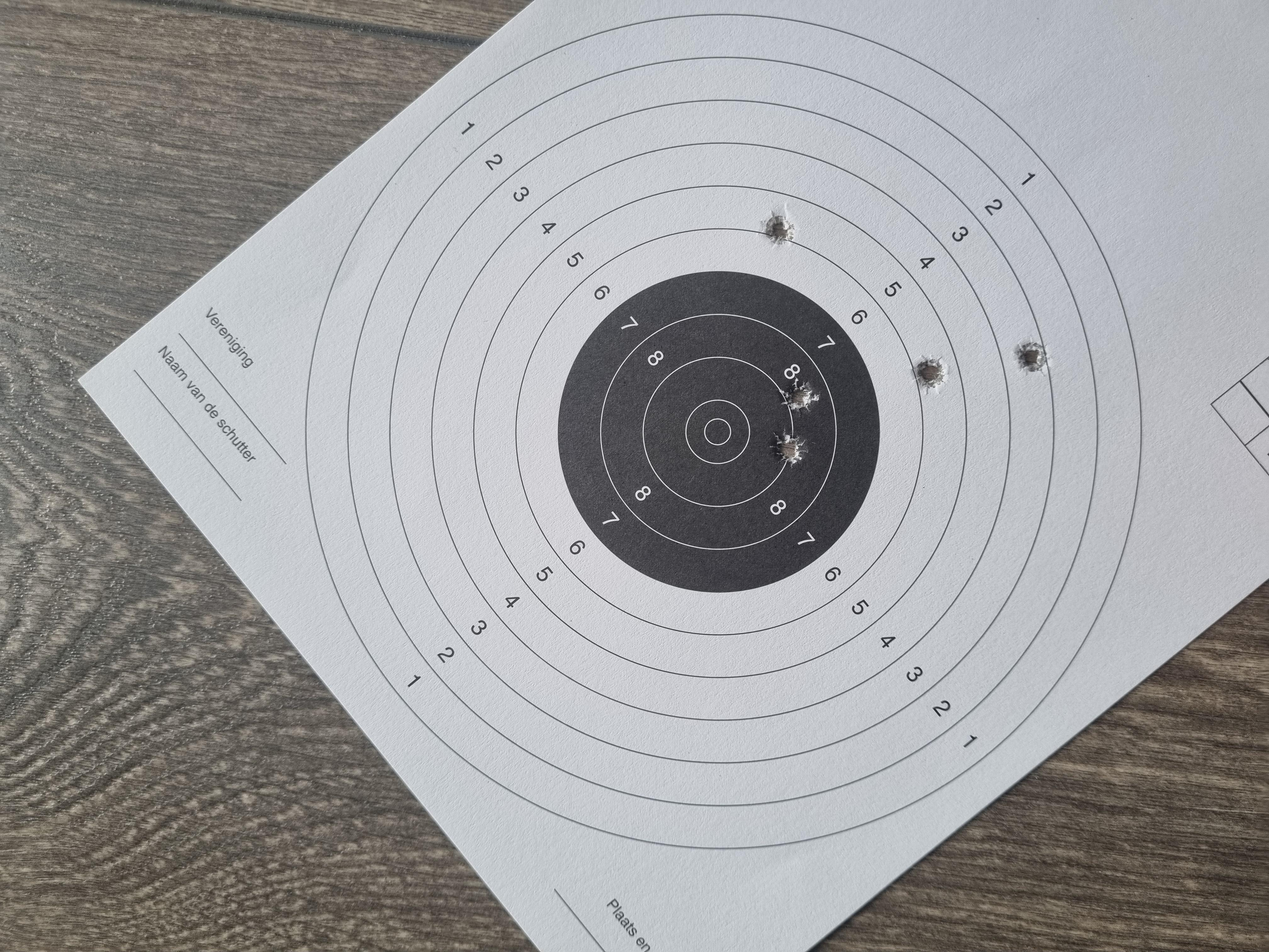hole: (720, 585, 765, 615), (749, 684, 796, 709), (646, 579, 690, 603), (771, 761, 814, 785), (942, 573, 982, 596)
